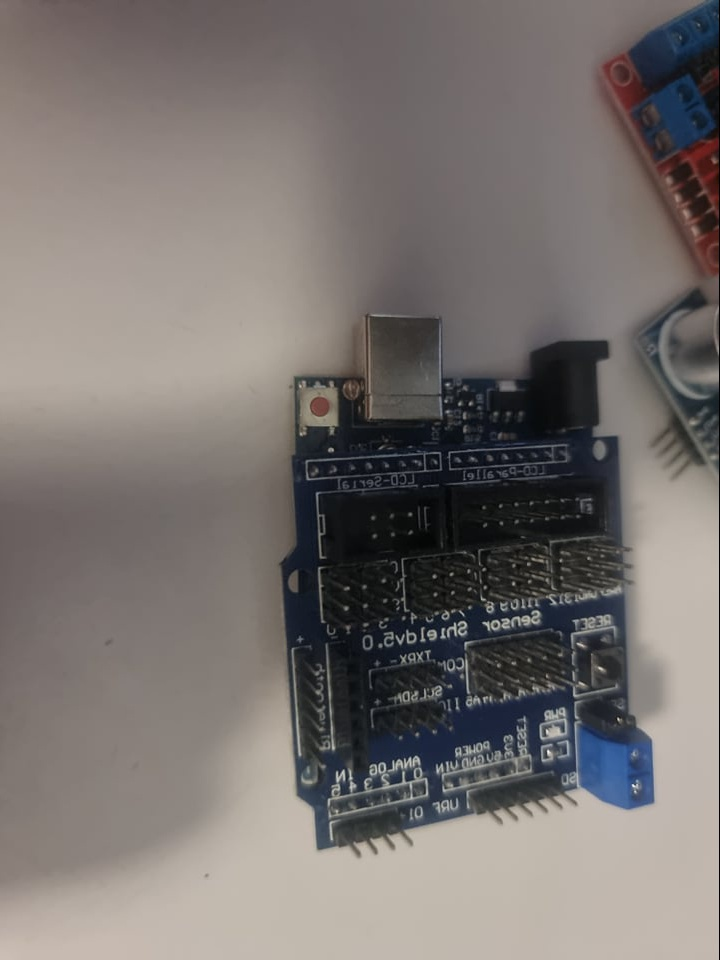UNO R3: (283, 291, 668, 860)
